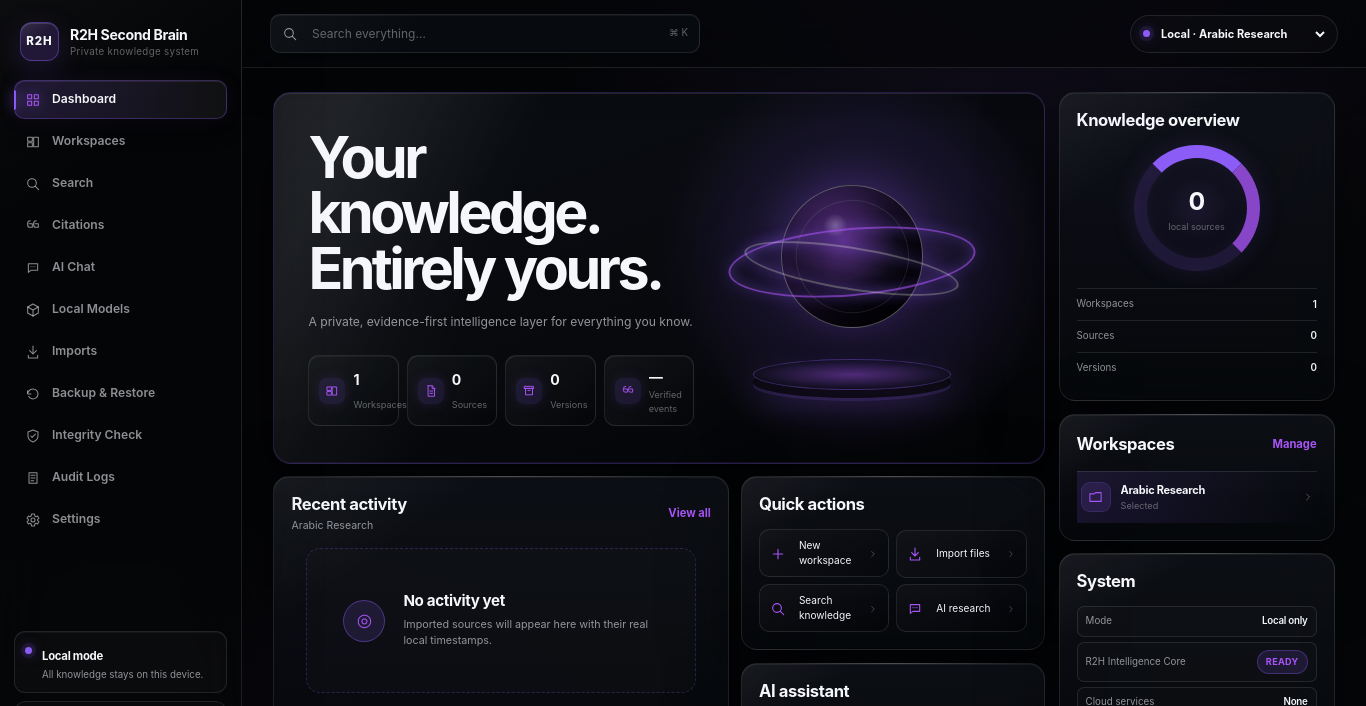
R2H Second Brain desktop interface › shows independent success and failure results for one ingest batch
What coordinates should you click on to do the following:
click the button "Imports"
I would click on:
 (120, 352)
Its box is [14,332,227,371].
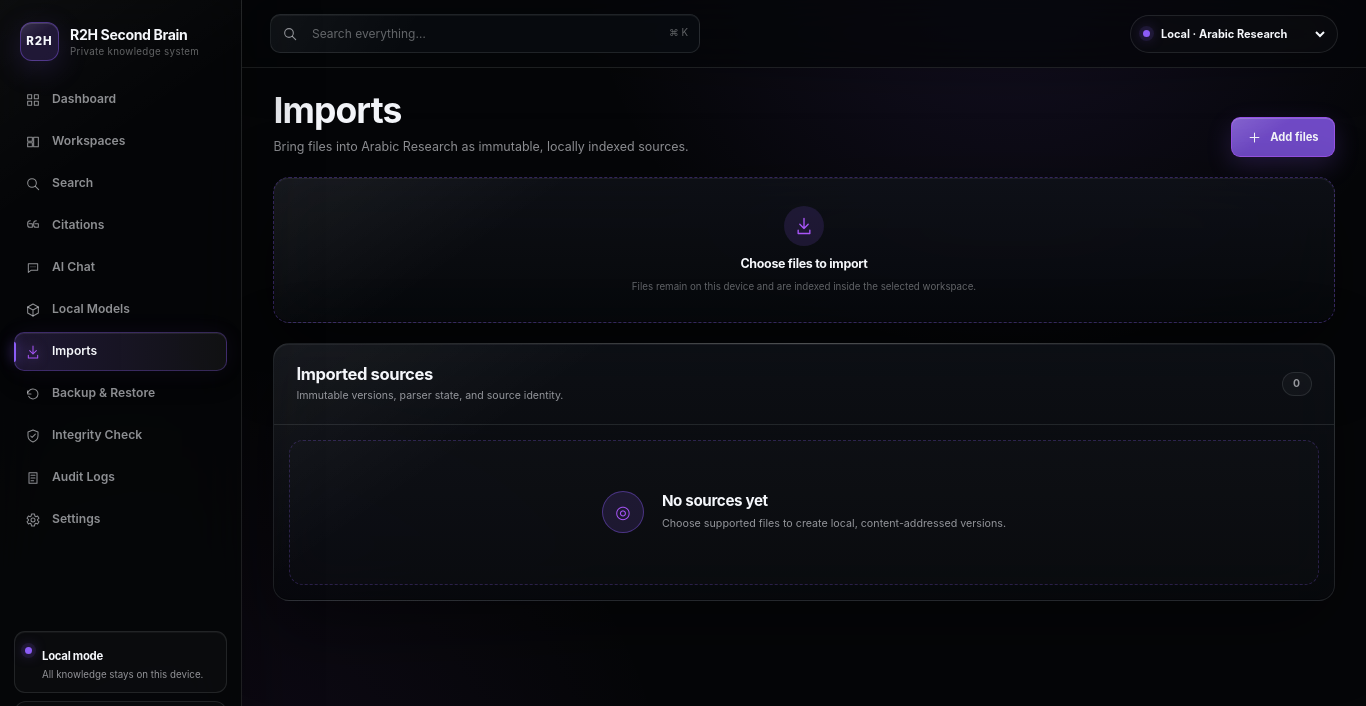
What coordinates should you click on to do the following:
click the button "Add files"
I would click on:
 (1283, 137)
Its box is [1231,117,1335,157].
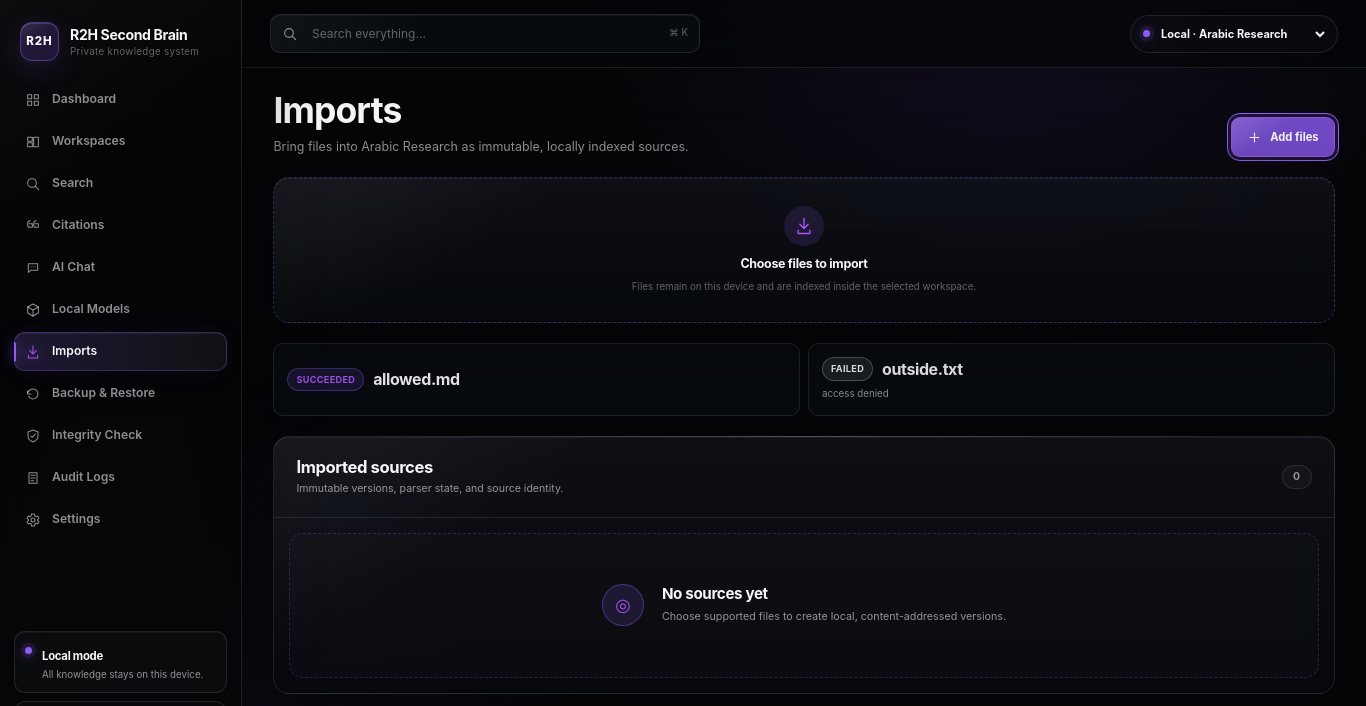
Now the text "allowed.md" is shown, box [373,369,460,389]
Now the text "outside.txt" is shown, box [882,359,963,379]
Now the text "access denied" is shown, box [822,388,889,399]
